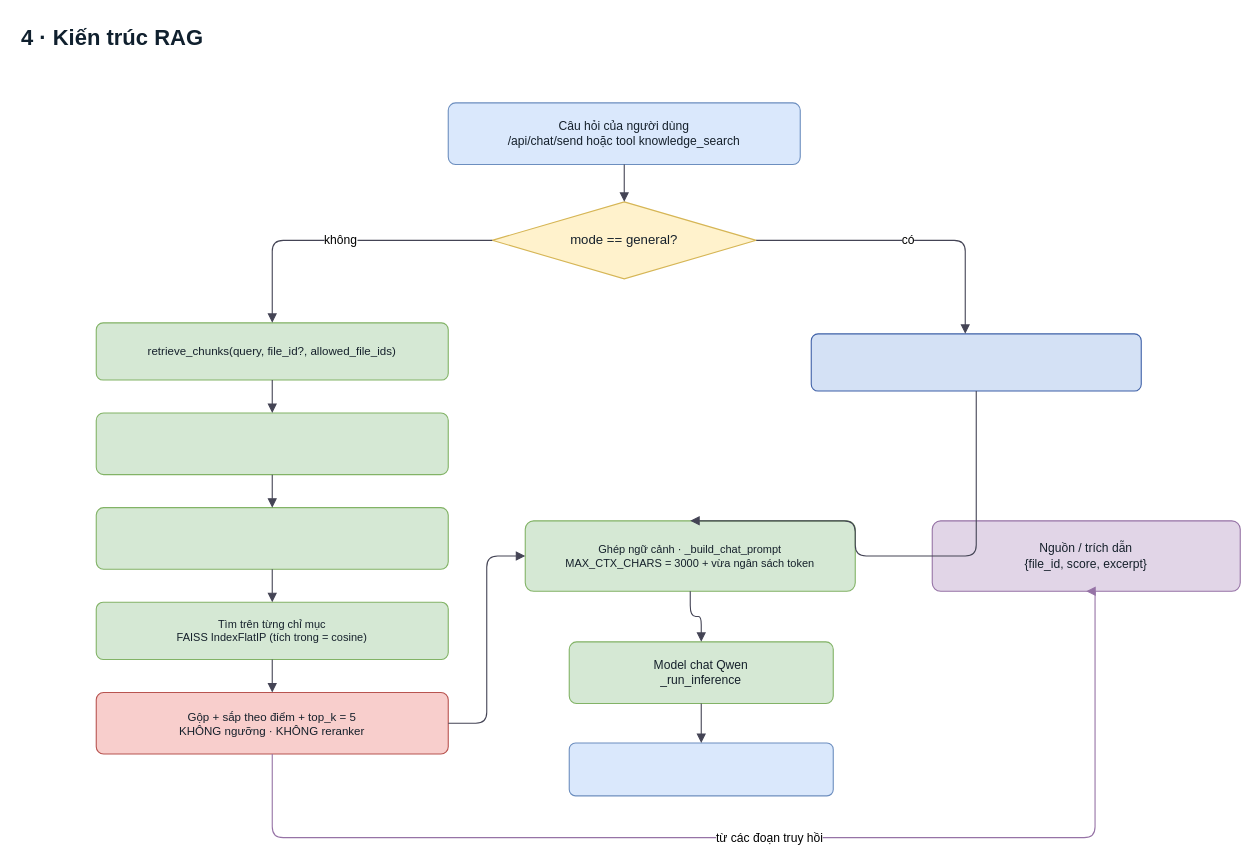
The diagram is 1260 pixels wide and 866 high, and some of its shapes have lost their labels. Each missing label, with the centre of its shape:
"Chọn chỉ mục đích một file_id HOẶC tất cả sở hữu ∩ allowed_file_ids" belongs at point (271, 538).
"Câu trả lời" belongs at point (700, 769).
"EmbeddingEngine.embed(query) SBERT → dự phòng Hashing · chuẩn hóa L2" belongs at point (271, 443).
"Không truy hồi (prompt trợ lý thuần)" belongs at point (975, 362).
